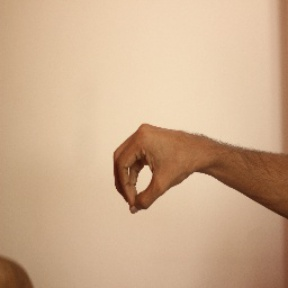O: (110, 121, 194, 214)
